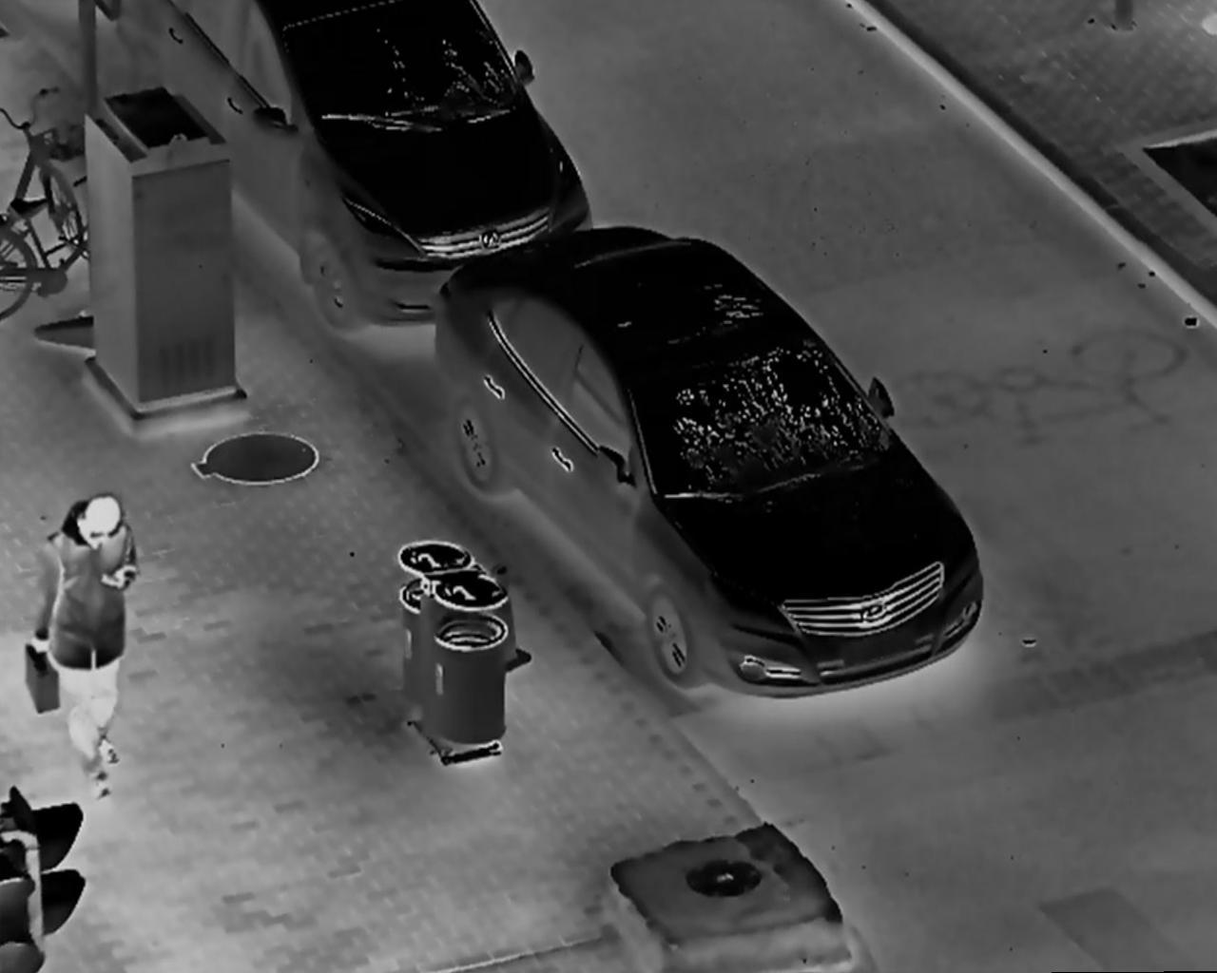person: (26, 490, 142, 798)
